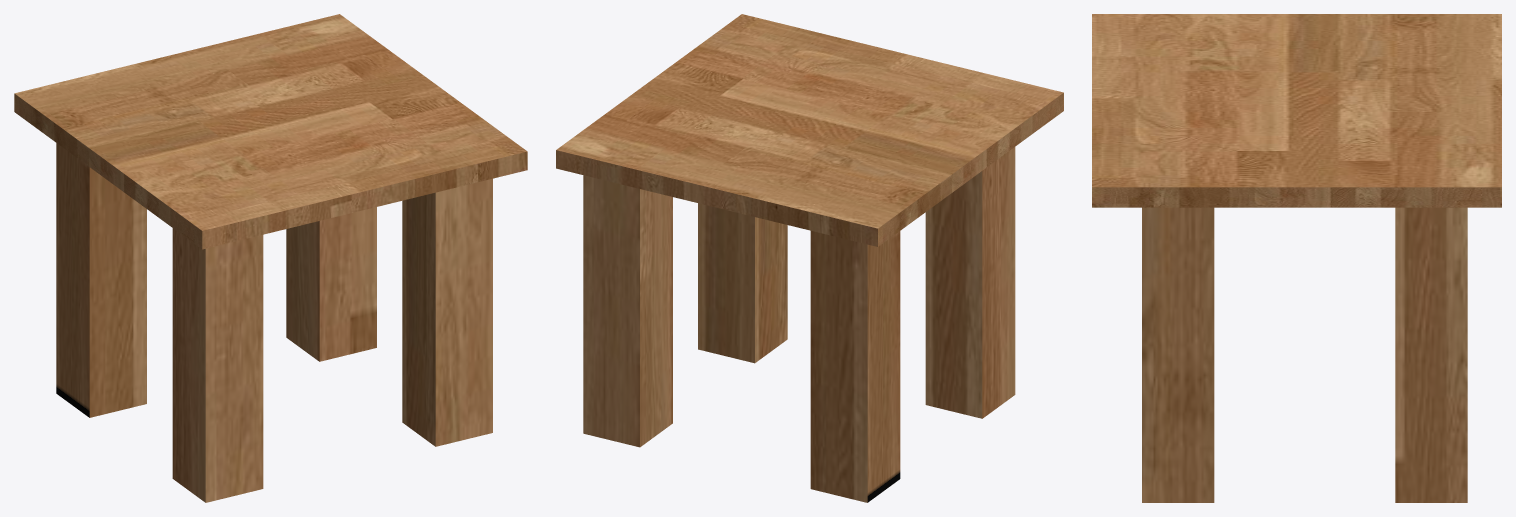
The model's file is Table.fbx.
3 renders of one model, left to right at view 1: azimuth 30°, elevation 25°; view 2: azimuth 150°, elevation 25°; view 3: azimuth 270°, elevation 25°, orthographic. The views are drawn at different scales.
Parts seen in each view (by area): view 1: Cube; view 2: Cube; view 3: Cube.
Part boxes in pixels (x1=…): Cube: x1=14, y1=14, x2=527, y2=502; Cube: x1=556, y1=14, x2=1063, y2=502; Cube: x1=1092, y1=14, x2=1501, y2=502.
Size of the model in its own units: 200 by 173 by 200.
Materials: 1 (1 with a texture image).
